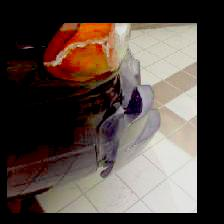tail_lamp: (72, 24, 171, 168)
